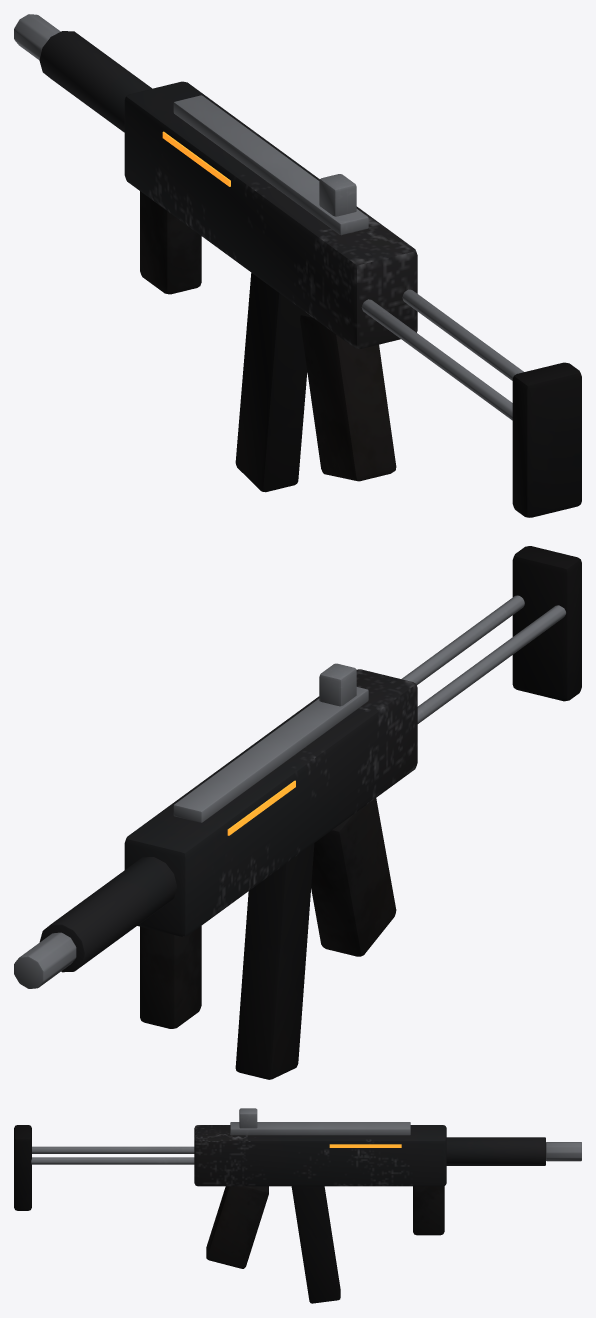
The model's file is smg.glb.
3 renders of one model, top to bottom at view 1: azimuth 30°, elevation 25°; view 2: azimuth 150°, elevation 25°; view 3: azimuth 270°, elevation 25°, orthographic. The views are drawn at different scales.
Parts seen in each view (by area): view 1: smg; view 2: smg; view 3: smg.
Part boxes in pixels (x1,y1,x2,y2): smg: (14, 14, 581, 517); smg: (14, 546, 581, 1079); smg: (14, 1108, 581, 1303).
Size of the model in its own units: 0.046 by 0.2313 by 0.63.
Materials: 1 (1 with a texture image).
